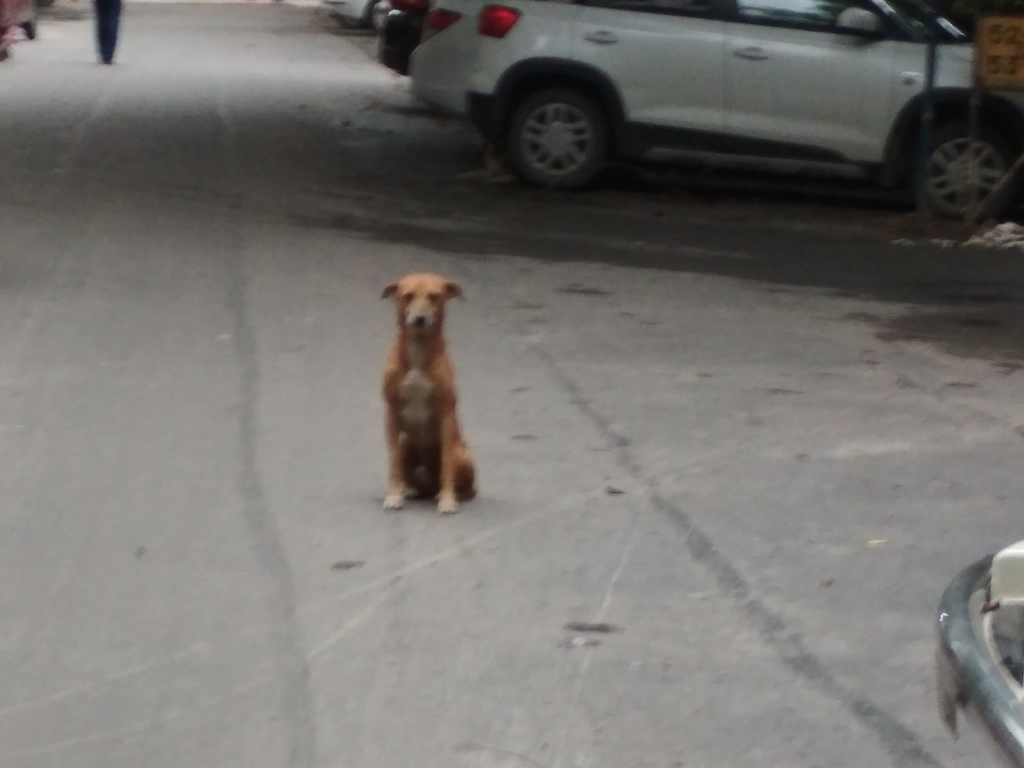dog: (380, 272, 466, 512)
